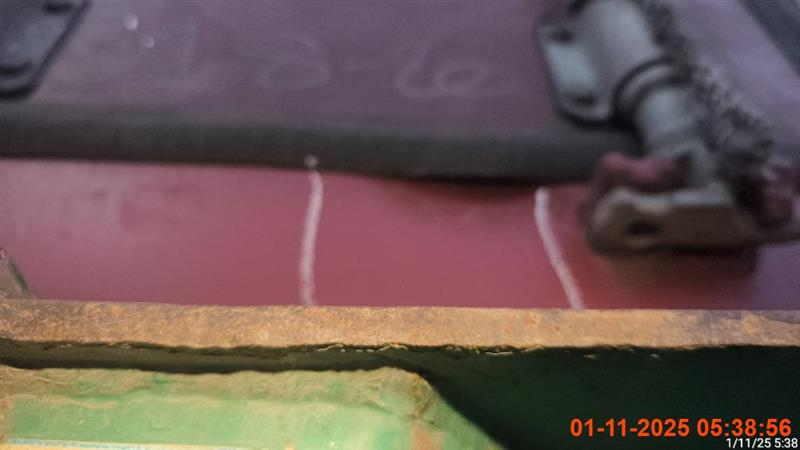dent: (1, 2, 798, 313), (535, 2, 800, 255)
